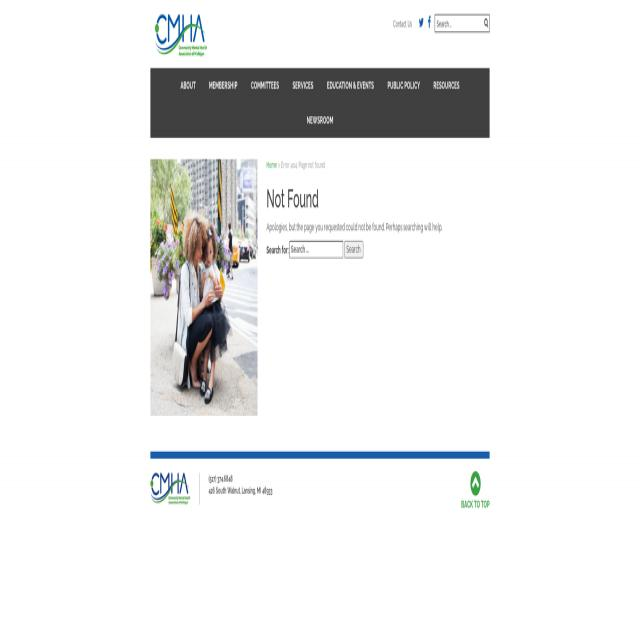button: (150, 159, 258, 415), (151, 14, 207, 57), (321, 68, 380, 102), (459, 464, 494, 514), (382, 68, 426, 102), (300, 102, 340, 138), (202, 68, 244, 102), (244, 68, 286, 102), (427, 68, 466, 102), (150, 473, 190, 505), (286, 68, 320, 102), (174, 68, 202, 102), (344, 241, 363, 258), (418, 18, 424, 30), (428, 18, 430, 30)
field: (435, 15, 489, 32), (289, 241, 343, 258)
